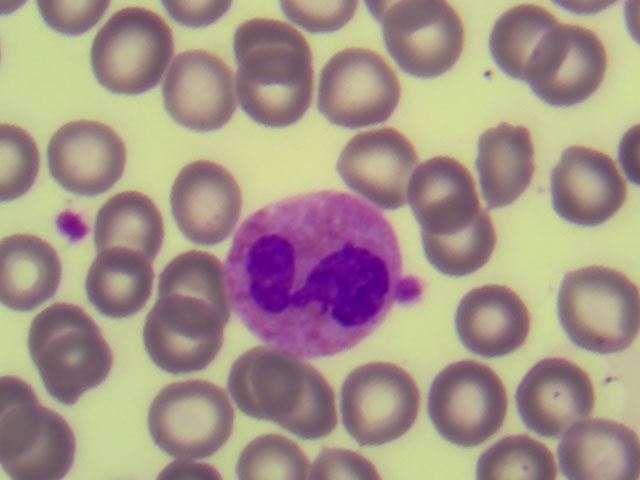Platelets: (57, 203, 93, 243), (399, 273, 421, 301)
RBC: (88, 10, 173, 90), (163, 52, 248, 132), (228, 52, 313, 132), (231, 12, 316, 92), (318, 46, 403, 126), (344, 119, 429, 199), (395, 151, 480, 231), (420, 196, 505, 276), (452, 282, 537, 362), (422, 359, 507, 439), (346, 363, 431, 443), (270, 363, 355, 443), (214, 344, 299, 424), (153, 377, 238, 457), (138, 298, 223, 378), (146, 250, 231, 330), (85, 247, 170, 327), (98, 182, 183, 262), (158, 151, 243, 231), (37, 113, 122, 193), (15, 286, 100, 366), (35, 326, 120, 406), (15, 400, 100, 480), (511, 351, 596, 431), (553, 400, 638, 480), (554, 272, 639, 352), (546, 144, 631, 224), (458, 123, 543, 203), (538, 23, 623, 103), (482, 5, 567, 85), (378, 1, 463, 81), (1, 234, 85, 314)
WBC: (227, 194, 397, 347)
